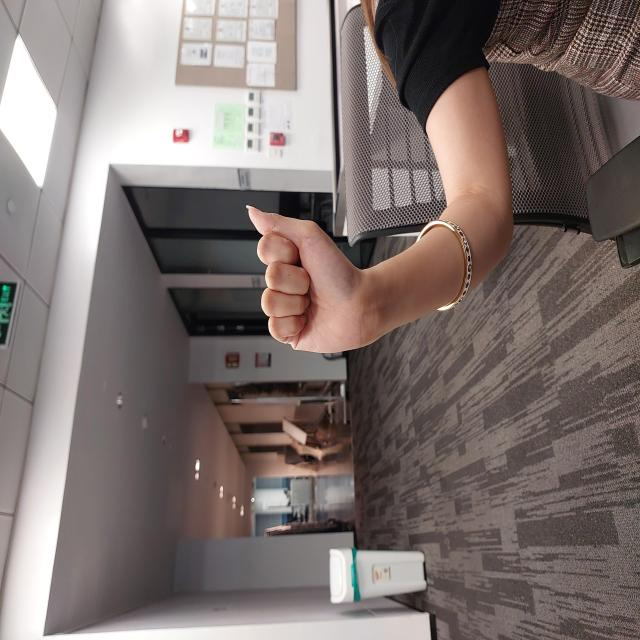A: (284, 245, 438, 377)
